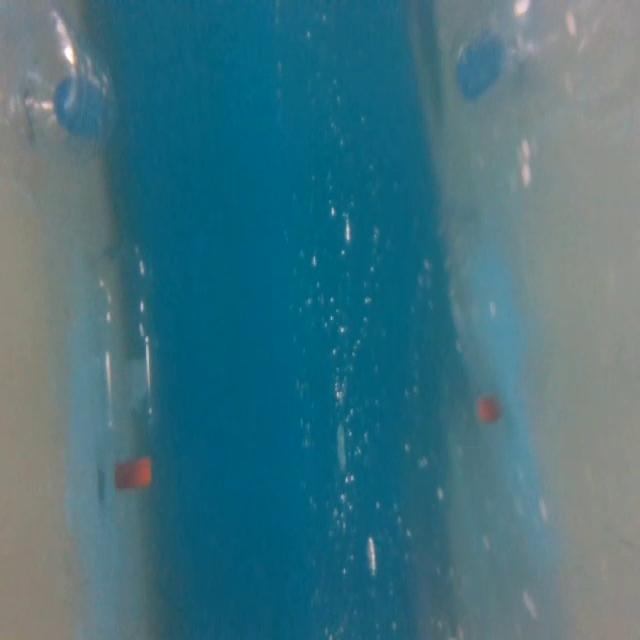plastic bottle: (90, 221, 170, 496)
